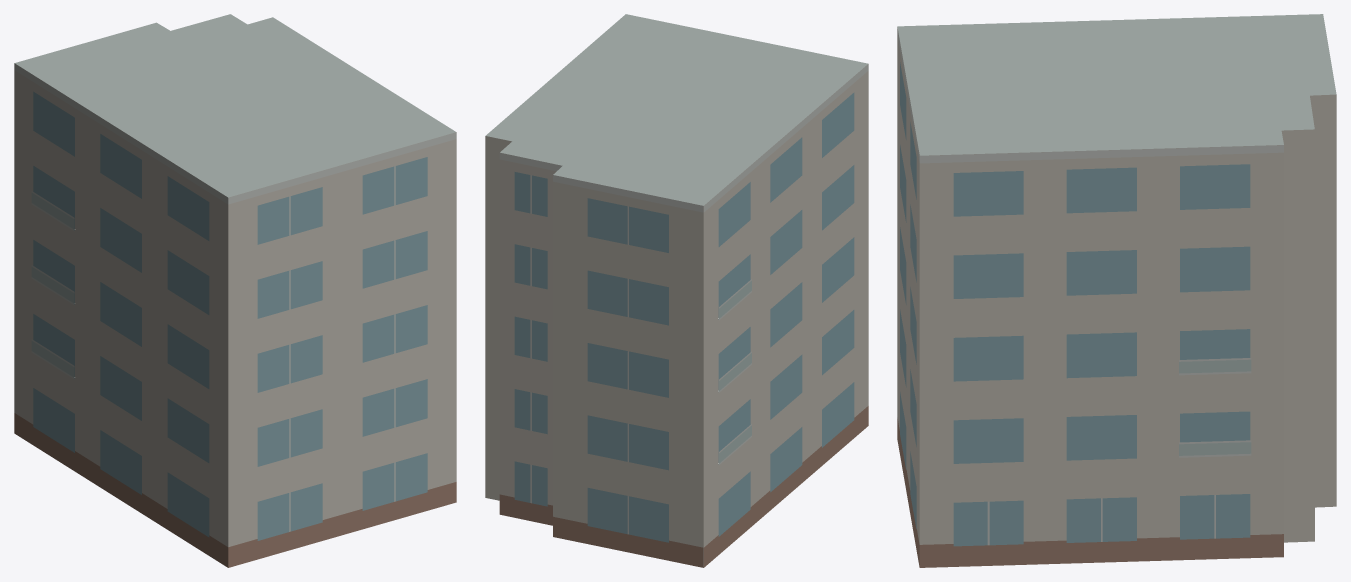
Rendered from survey-upis-32666437.glb.
3 views of the same model, side by side, from view 1: azimuth 30°, elevation 25°; view 2: azimuth 150°, elevation 25°; view 3: azimuth 270°, elevation 25° (orthographic). The views are drawn at different scales.
Visible parts, largest first — view 1: survey-upis-32666437.tmp; view 2: survey-upis-32666437.tmp; view 3: survey-upis-32666437.tmp.
Part boxes in pixels (box(x1,y1,x2,y2)): survey-upis-32666437.tmp: box(14, 14, 456, 567); survey-upis-32666437.tmp: box(485, 14, 868, 567); survey-upis-32666437.tmp: box(897, 14, 1336, 567).
Bounding box in the file's own units: 9.6 × 13 × 12.57.
